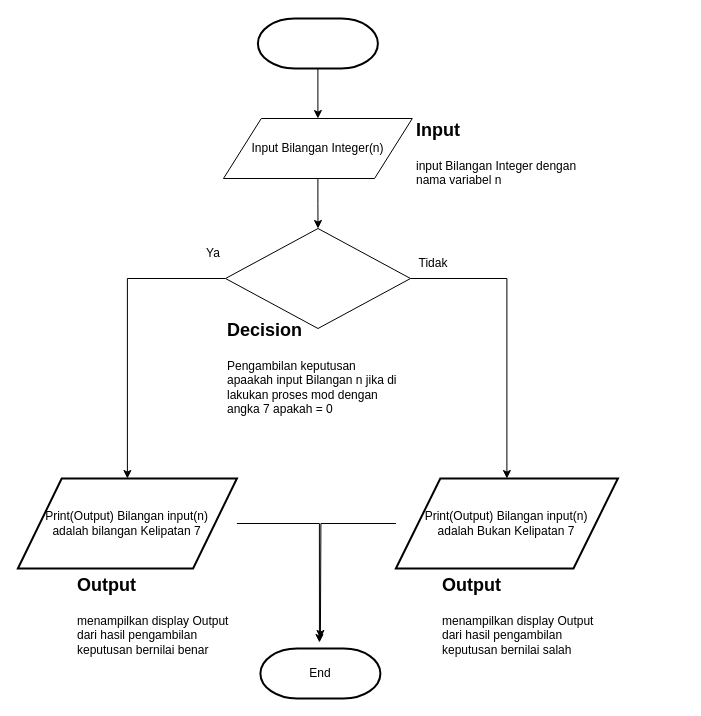
Image size: 701x716. Some labels were removed from this diagram. Each missing label, with the box of its shape:
Bilangan Input(n)%7 ==0: (224, 228, 410, 328)
Start: (256, 17, 378, 69)
